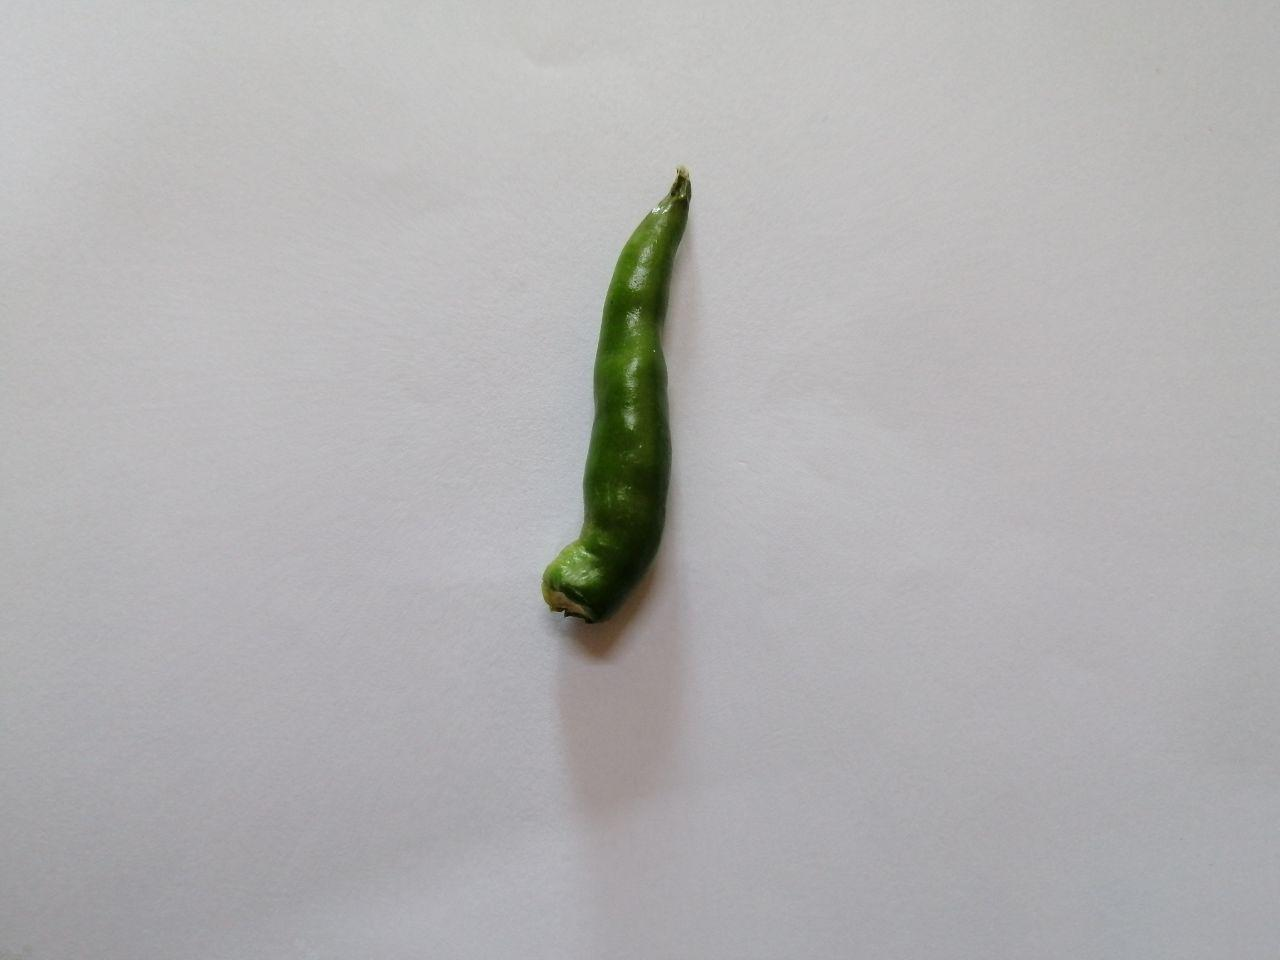lada hijau: (524, 144, 718, 658)
